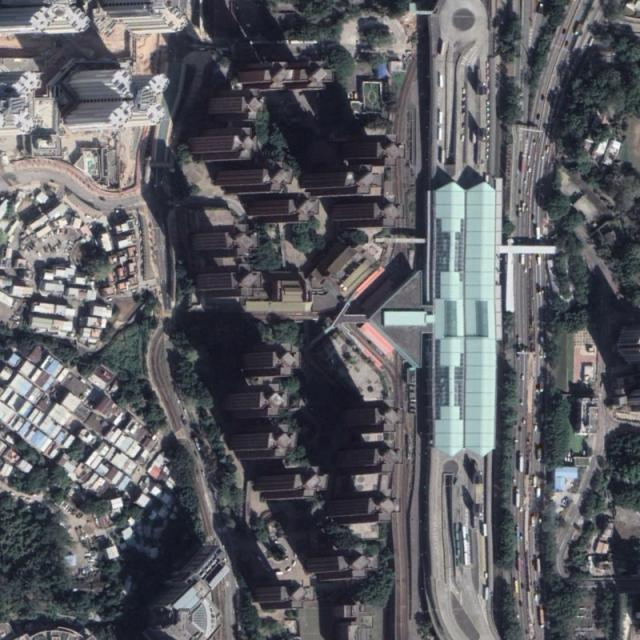vehicle: (460, 525, 468, 565), (518, 452, 524, 473), (520, 154, 526, 174), (539, 609, 545, 628), (514, 523, 521, 539), (515, 487, 520, 507), (574, 23, 582, 35), (539, 378, 545, 393), (536, 558, 542, 573), (517, 554, 522, 572), (440, 42, 446, 56), (440, 150, 446, 164), (438, 109, 443, 124), (438, 126, 443, 141), (532, 476, 538, 488), (438, 74, 444, 86), (537, 448, 542, 462), (514, 580, 519, 594), (484, 586, 489, 600), (520, 254, 526, 265), (536, 488, 542, 498), (483, 522, 487, 537), (472, 128, 476, 143), (536, 226, 540, 240), (545, 145, 550, 154), (537, 256, 541, 266), (534, 422, 538, 432), (460, 134, 465, 142), (531, 517, 535, 526), (483, 572, 488, 578)
